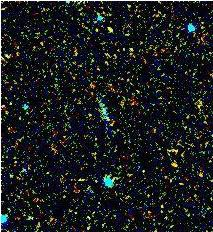star: (154, 150, 184, 180)
